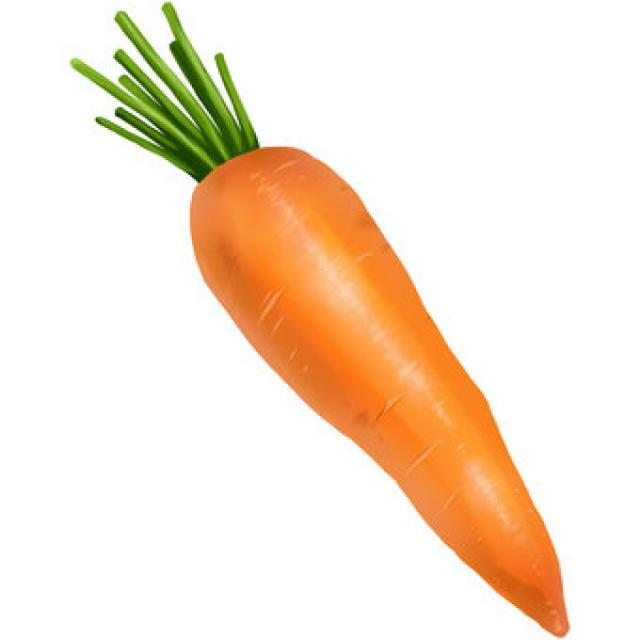Carrot: (73, 9, 571, 632)
